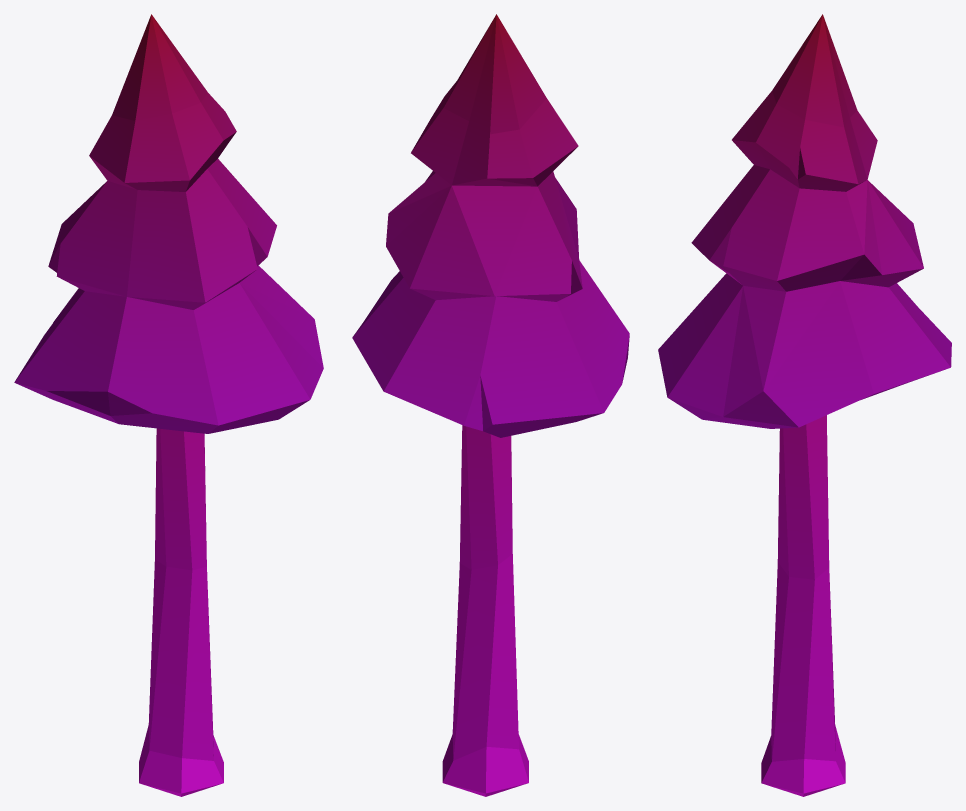
The model's file is SM_Tree_PolyPine_03.gltf.
3 renders of one model, left to right at view 1: azimuth 30°, elevation 25°; view 2: azimuth 150°, elevation 25°; view 3: azimuth 270°, elevation 25°, orthographic. The views are drawn at different scales.
Parts seen in each view (by area): view 1: SM_Tree_PolyPine_03; view 2: SM_Tree_PolyPine_03; view 3: SM_Tree_PolyPine_03.
Part boxes in pixels (x1,y1,x2,y2): SM_Tree_PolyPine_03: [14, 14, 323, 796]; SM_Tree_PolyPine_03: [352, 14, 629, 796]; SM_Tree_PolyPine_03: [658, 14, 951, 796].
Size of the model in its own units: 1.13 by 3.19 by 1.1.
